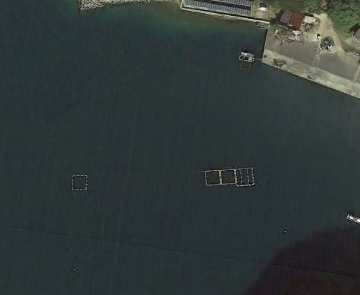house: (178, 1, 261, 19), (278, 7, 317, 37)
square: (231, 159, 257, 192), (68, 171, 91, 195), (216, 163, 236, 187), (201, 167, 223, 187)
